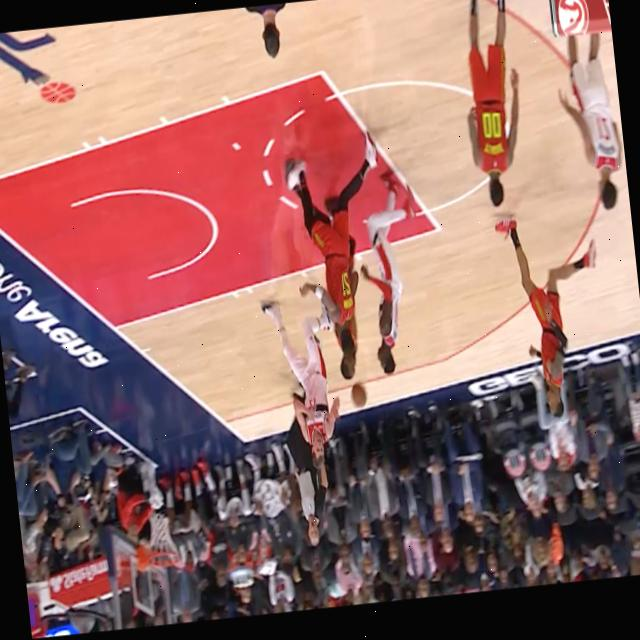no foul: (230, 118, 452, 464)
